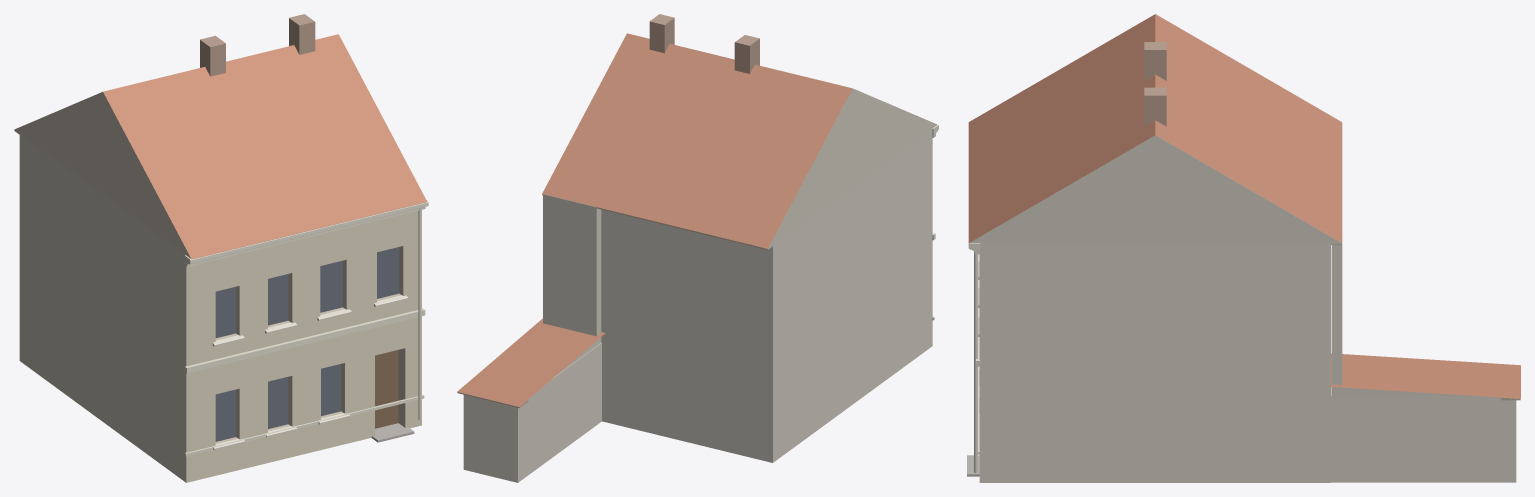
The picture shows the model from 3 angles, left to right: view 1: azimuth 30°, elevation 25°; view 2: azimuth 150°, elevation 25°; view 3: azimuth 270°, elevation 25°; orthographic projection. The views are drawn at different scales.
Visible parts, largest first — view 1: CP_1068_Masonry, CP_1068_Roof, CP_1068_Gable_L_gable, CP_1068_Cornice_string_0, CP_1068_Cornice_main_0, CP_1068_Chimney_1, CP_1068_Chimney_0, CP_1068_Downpipe_0, CP_1068_Cornice_sillband_0, CP_1068_Threshold_D4; view 2: CP_1068_Masonry, CP_1068_Roof, CP_1068_Rear_Wing_Wall, CP_1068_Gable_L_gable, CP_1068_AtticClosure_1, CP_1068_WingRoof_Rear_Wing_Roof, CP_1068_Chimney_0, CP_1068_Chimney_1; view 3: CP_1068_Masonry, CP_1068_Roof, CP_1068_Gable_R_gable, CP_1068_Rear_Wing_Wall, CP_1068_WingRoof_Rear_Wing_Roof, CP_1068_AtticClosure_1, CP_1068_Downpipe_0, CP_1068_Chimney_1, CP_1068_Chimney_0.
Boxes of the visible parts, x1=… form: CP_1068_Masonry: x1=19, y1=134, x2=421, y2=482; CP_1068_Roof: x1=19, y1=34, x2=427, y2=259; CP_1068_Gable_L_gable: x1=14, y1=92, x2=197, y2=259; CP_1068_Cornice_string_0: x1=184, y1=308, x2=425, y2=373; CP_1068_Cornice_main_0: x1=184, y1=200, x2=428, y2=266; CP_1068_Chimney_1: x1=289, y1=14, x2=315, y2=54; CP_1068_Chimney_0: x1=200, y1=35, x2=225, y2=76; CP_1068_Downpipe_0: x1=418, y1=208, x2=421, y2=420; CP_1068_Cornice_sillband_0: x1=184, y1=395, x2=424, y2=456; CP_1068_Threshold_D4: x1=371, y1=423, x2=414, y2=442; CP_1068_Masonry: x1=601, y1=129, x2=932, y2=462; CP_1068_Roof: x1=542, y1=33, x2=852, y2=248; CP_1068_Rear_Wing_Wall: x1=463, y1=342, x2=601, y2=482; CP_1068_Gable_L_gable: x1=760, y1=88, x2=937, y2=249; CP_1068_AtticClosure_1: x1=543, y1=194, x2=601, y2=375; CP_1068_WingRoof_Rear_Wing_Roof: x1=457, y1=318, x2=605, y2=406; CP_1068_Chimney_0: x1=734, y1=35, x2=759, y2=73; CP_1068_Chimney_1: x1=649, y1=14, x2=674, y2=53; CP_1068_Masonry: x1=979, y1=243, x2=1330, y2=482; CP_1068_Roof: x1=968, y1=14, x2=1342, y2=242; CP_1068_Gable_R_gable: x1=969, y1=135, x2=1341, y2=244; CP_1068_Rear_Wing_Wall: x1=1331, y1=387, x2=1516, y2=482; CP_1068_WingRoof_Rear_Wing_Roof: x1=1331, y1=353, x2=1520, y2=398; CP_1068_AtticClosure_1: x1=1331, y1=243, x2=1474, y2=395; CP_1068_Downpipe_0: x1=974, y1=251, x2=977, y2=472; CP_1068_Chimney_1: x1=1144, y1=87, x2=1166, y2=126; CP_1068_Chimney_0: x1=1144, y1=42, x2=1166, y2=80.
Bounding box in the file's own units: 9.2 × 12.92 × 17.39.
